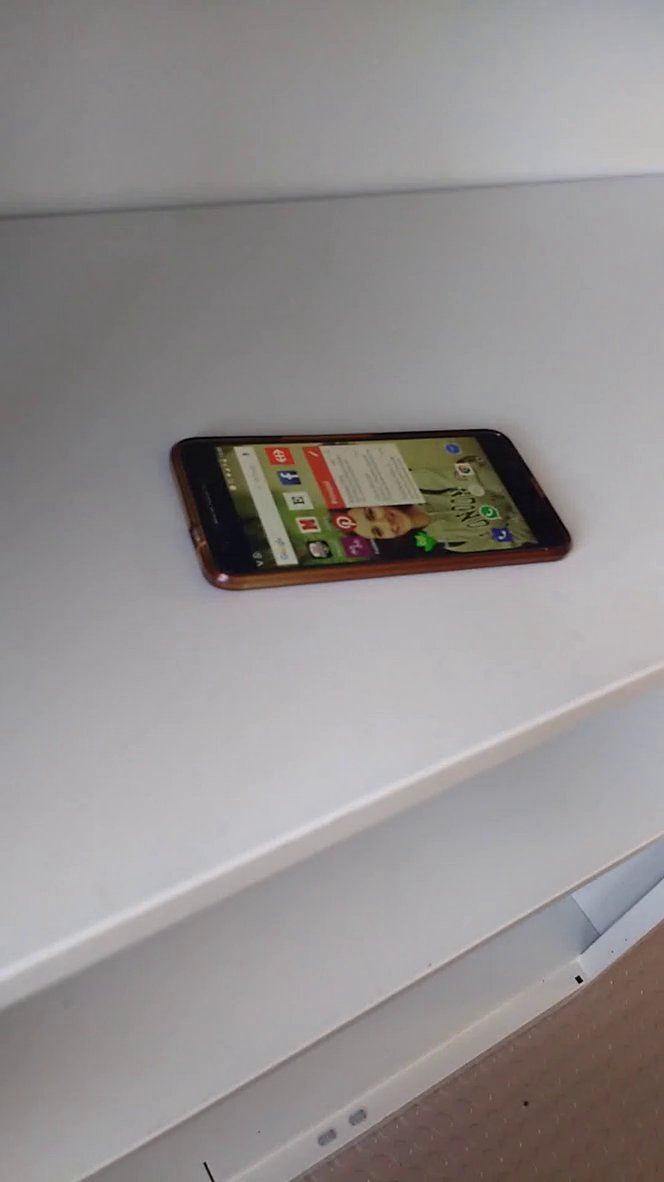phone: (159, 408, 591, 600)
